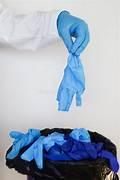Glove: (21, 132, 65, 168), (57, 53, 84, 110), (57, 11, 88, 55), (7, 129, 39, 158), (21, 136, 44, 168), (69, 128, 90, 142)
